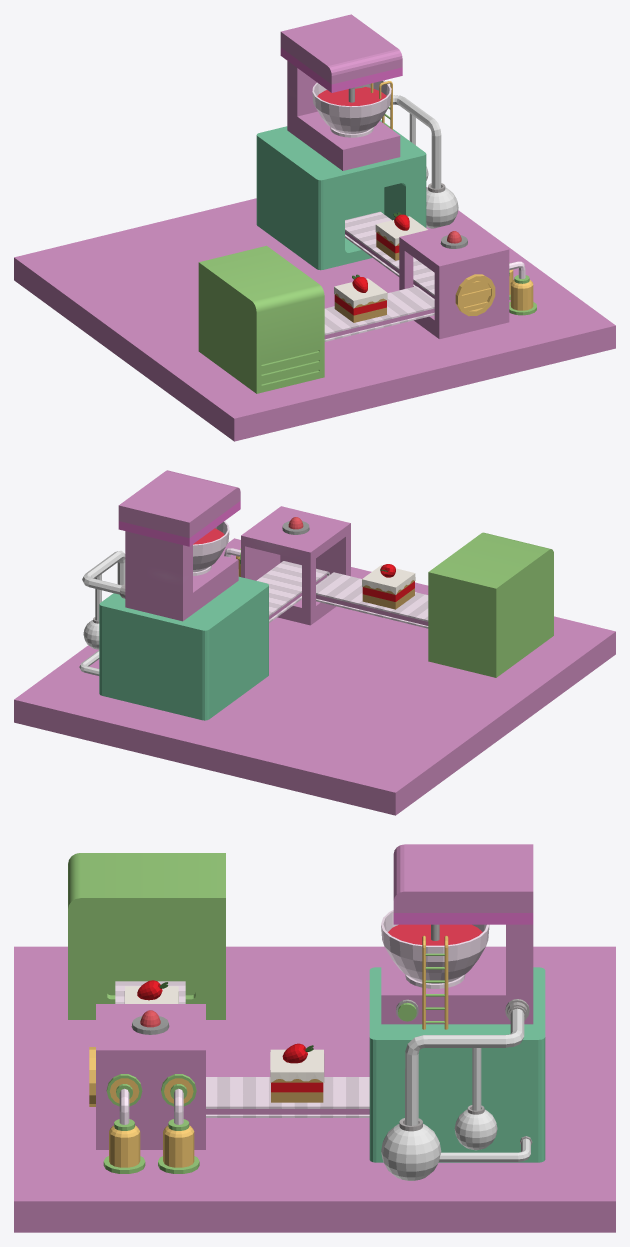
Rendered from D2_FACTORY_MIXING_MACHINE.fbx.
3 renders of one model, top to bottom at view 1: azimuth 30°, elevation 25°; view 2: azimuth 150°, elevation 25°; view 3: azimuth 270°, elevation 25°, orthographic. The views are drawn at different scales.
Visible parts, largest first — view 1: Cube.018, Cube.019, Cube.023, Cube.020, Cube.025, Cube.024, Plane.032, Sphere.009, Plane.033, Cube.021, Cylinder.049, Cube.022 (+4 smaller); view 2: Cube.018, Cube.023, Cube.019, Cube.020, Cube.024, Cube.025, Plane.032, Cube.021, Plane.033, Plane.034, Sphere.009; view 3: Cube.018, Cube.019, Cube.023, Cube.020, Cube.025, Cube.024, Plane.033, Sphere.009, Cube.022, Plane.034, Cylinder.051, Cylinder.050 (+9 smaller).
Boxes of the visible parts, bbox=[...] form: Cube.018: bbox=[14, 187, 615, 441]; Cube.019: bbox=[198, 245, 324, 393]; Cube.023: bbox=[256, 120, 426, 270]; Cube.020: bbox=[399, 220, 509, 339]; Cube.025: bbox=[280, 14, 402, 92]; Cube.024: bbox=[287, 61, 400, 170]; Plane.032: bbox=[324, 286, 434, 341]; Sphere.009: bbox=[312, 80, 391, 137]; Plane.033: bbox=[345, 211, 434, 298]; Cube.021: bbox=[334, 274, 387, 322]; Cylinder.049: bbox=[455, 274, 495, 316]; Cube.022: bbox=[375, 212, 427, 260]; Cube.018: bbox=[14, 538, 615, 815]; Cube.023: bbox=[99, 576, 268, 720]; Cube.019: bbox=[428, 532, 553, 677]; Cube.020: bbox=[241, 506, 350, 625]; Cube.024: bbox=[125, 531, 238, 621]; Cube.025: bbox=[118, 470, 240, 546]; Plane.032: bbox=[316, 572, 428, 628]; Cube.021: bbox=[362, 564, 415, 609]; Plane.033: bbox=[256, 561, 329, 622]; Plane.034: bbox=[82, 550, 125, 594]; Sphere.009: bbox=[193, 521, 229, 575]; Cube.018: bbox=[14, 946, 615, 1232]; Cube.019: bbox=[68, 853, 225, 1019]; Cube.023: bbox=[369, 967, 545, 1162]; Cube.020: bbox=[96, 1004, 205, 1149]; Cube.025: bbox=[393, 844, 533, 924]; Cube.024: bbox=[381, 924, 533, 1024]; Plane.033: bbox=[206, 1077, 369, 1117]; Sphere.009: bbox=[381, 910, 489, 988]; Cube.022: bbox=[270, 1043, 324, 1102]; Plane.034: bbox=[405, 1008, 524, 1125]; Cylinder.051: bbox=[103, 1074, 145, 1173]; Cylinder.050: bbox=[158, 1074, 199, 1173].
Size of the model in its own units: 2000 by 1067 by 2000.
Materials: 10 (3 with a texture image).
